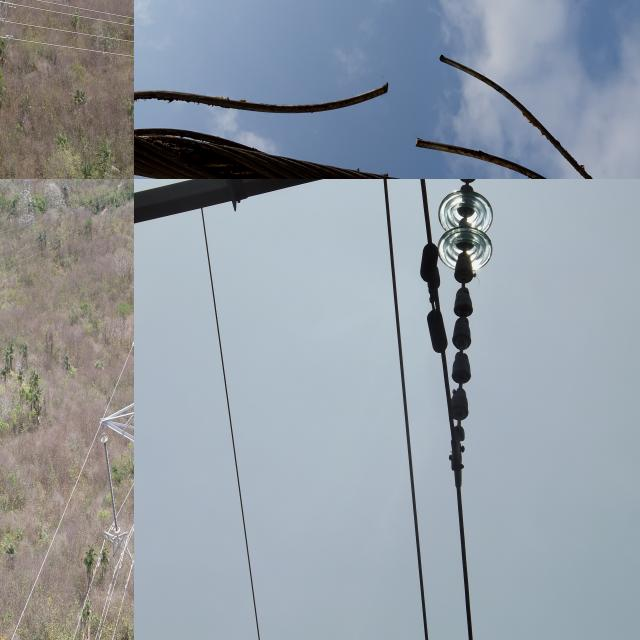杆塔: (98, 294, 134, 640), (11, 179, 38, 227)
正常绝缘子: (436, 179, 493, 467), (93, 422, 126, 546)
电缆破损: (134, 43, 640, 179)
绝缘子破损: (453, 262, 477, 301), (449, 364, 472, 404), (451, 333, 472, 370), (451, 308, 474, 338), (457, 179, 478, 190)
